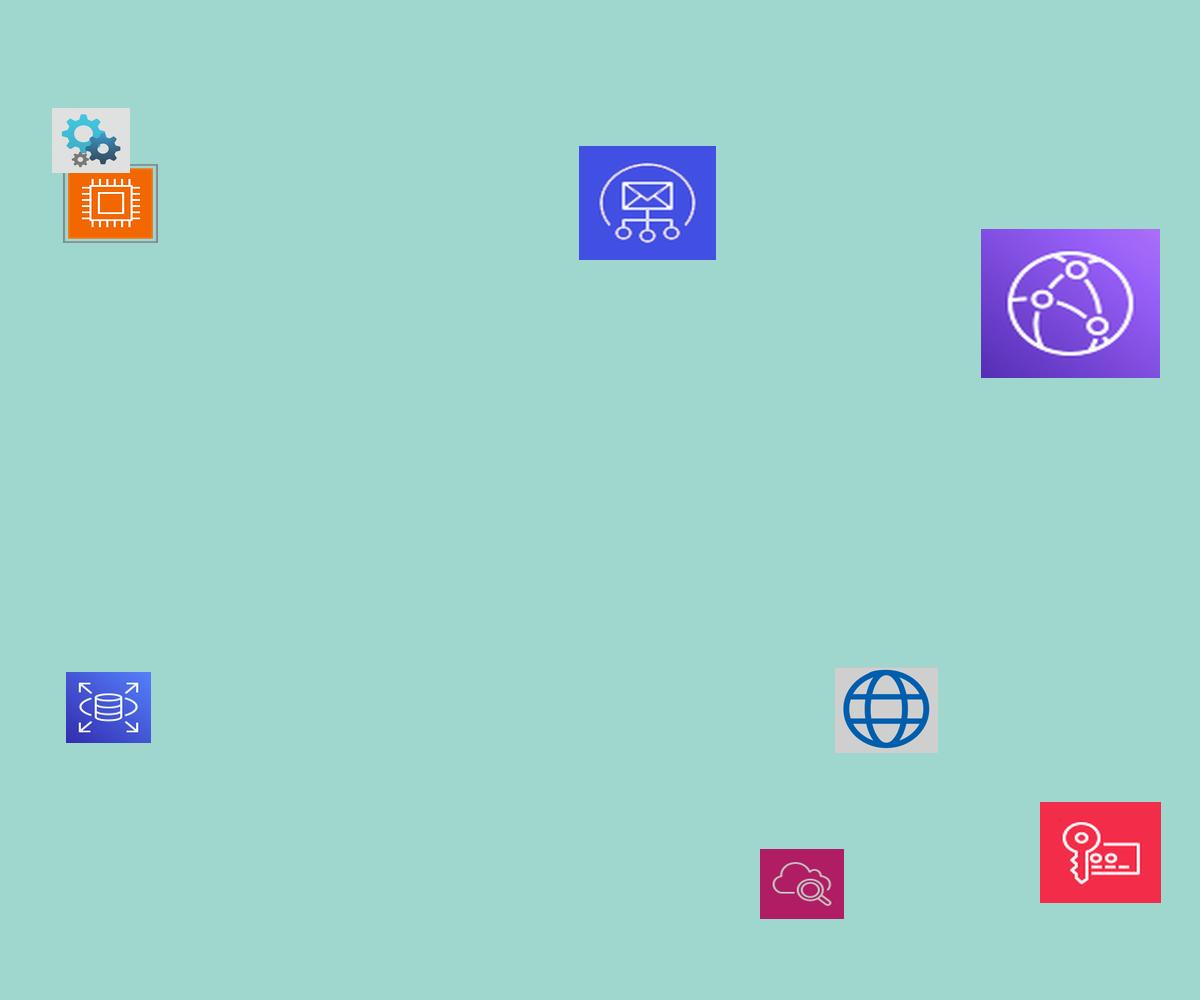AWS-Category_Compute: (63, 164, 158, 243)
AWS-CloudFront: (981, 229, 1160, 378)
AWS-CloudWatch: (760, 849, 844, 919)
AWS-Key-Management-Service: (1040, 802, 1161, 903)
AWS-RDS: (66, 672, 151, 743)
AWS-Simple-Email-Service: (579, 146, 716, 260)
Azure_api: (52, 108, 130, 173)
Azure_http: (835, 667, 938, 753)
